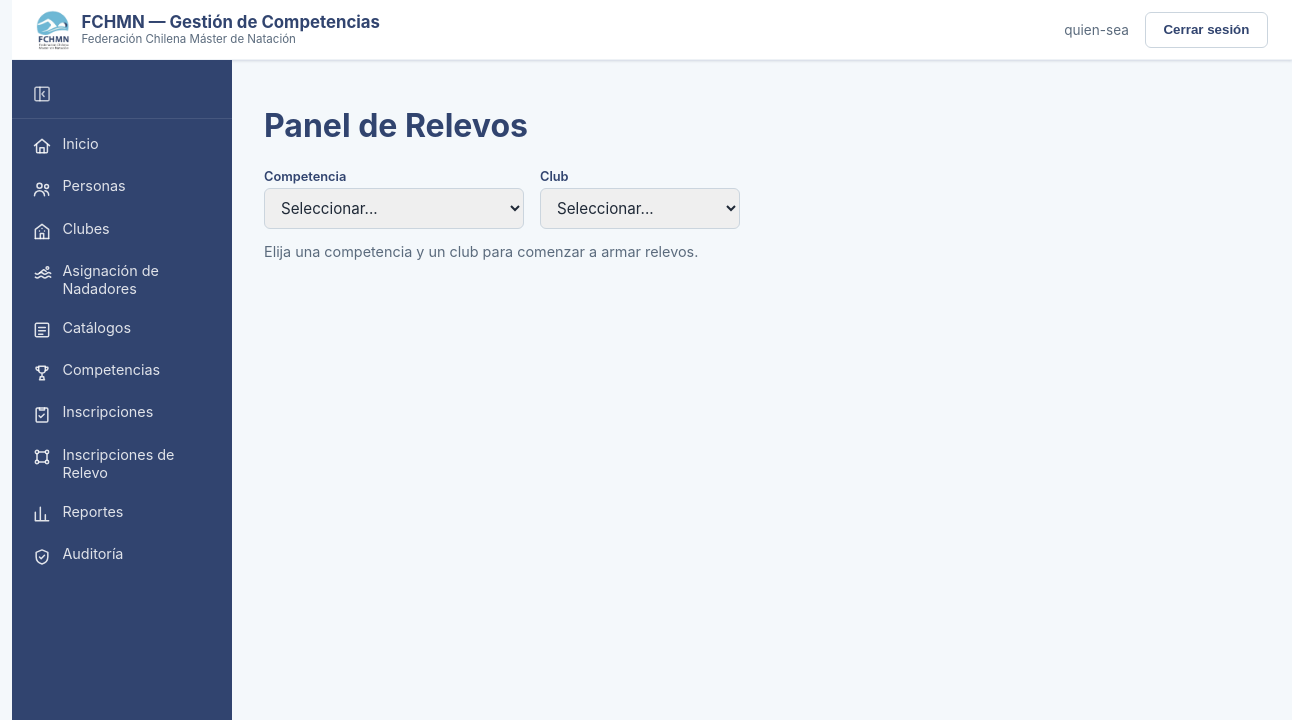
Test: una respuesta atrasada no puede pintar los nadadores de otro club › el plantel anterior desaparece en cuanto se cambia de club
Select "Competencia A" in the 1st dropdown at (394, 209), box [264, 188, 524, 229]
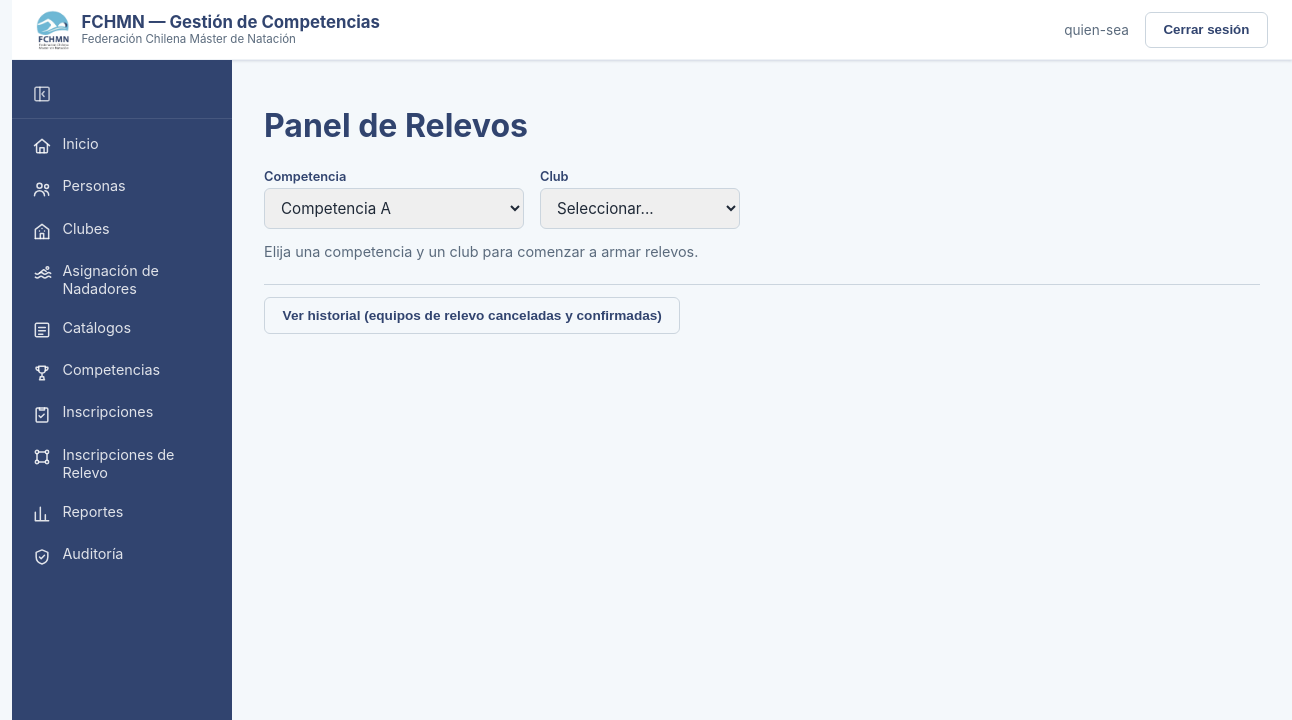
Select "Club Uno" in the 2nd dropdown at (640, 209), box [540, 188, 740, 229]
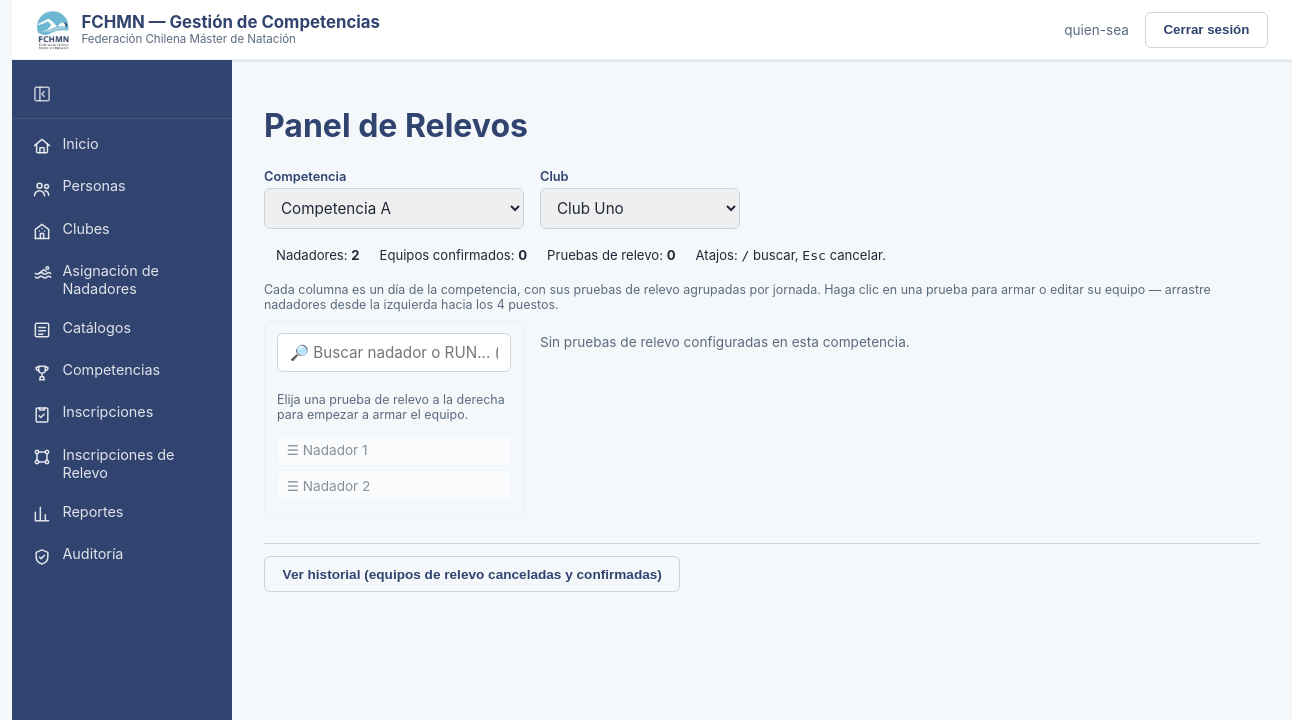
expect the text "☰ Nadador 1" is shown: met, box [277, 435, 511, 466]
Select "Club Dos" in the 2nd dropdown at (640, 209), box [540, 188, 740, 229]
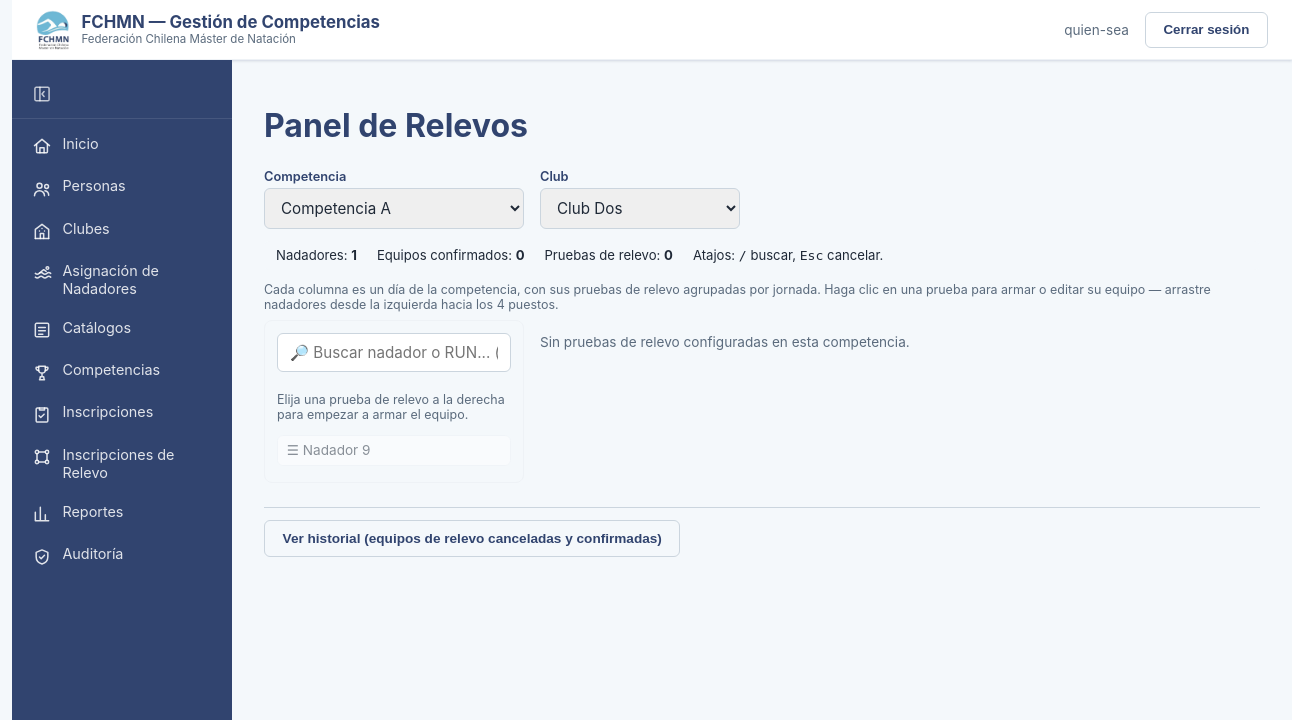
expect the text "Nadador 1" is gone: met
